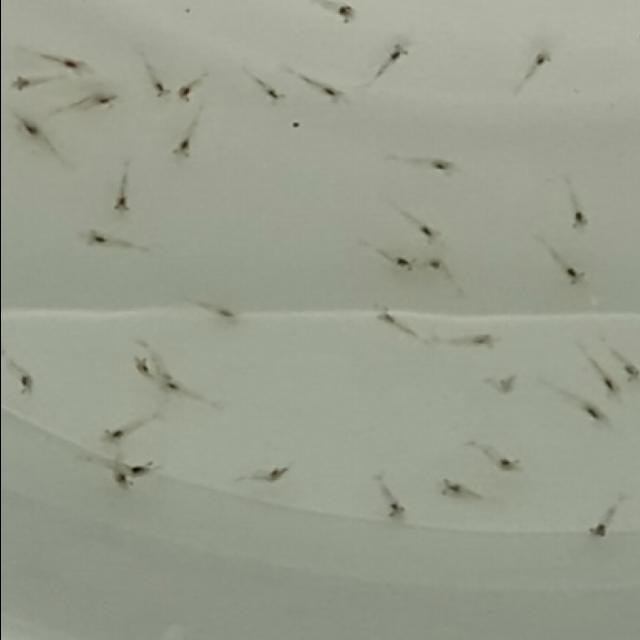shrimp-seed: (388, 40, 413, 62), (374, 306, 398, 328), (264, 466, 290, 486), (472, 332, 498, 352), (84, 230, 110, 250), (383, 500, 407, 520), (15, 373, 35, 396), (160, 375, 182, 395), (170, 140, 192, 160), (600, 378, 620, 398), (130, 356, 148, 378), (322, 86, 344, 104), (438, 479, 459, 497), (263, 88, 284, 106), (392, 256, 415, 272), (110, 472, 130, 490), (104, 427, 125, 444), (431, 161, 453, 177), (61, 58, 82, 74), (582, 407, 604, 422), (150, 80, 168, 98), (571, 211, 589, 229), (534, 49, 552, 67), (128, 462, 148, 478), (110, 197, 130, 213), (336, 5, 356, 21), (562, 268, 582, 284), (588, 522, 606, 539), (498, 458, 518, 473), (19, 122, 37, 138), (12, 76, 30, 92), (173, 86, 191, 102), (420, 227, 438, 243), (93, 95, 114, 108), (621, 364, 637, 380), (424, 258, 442, 272)
